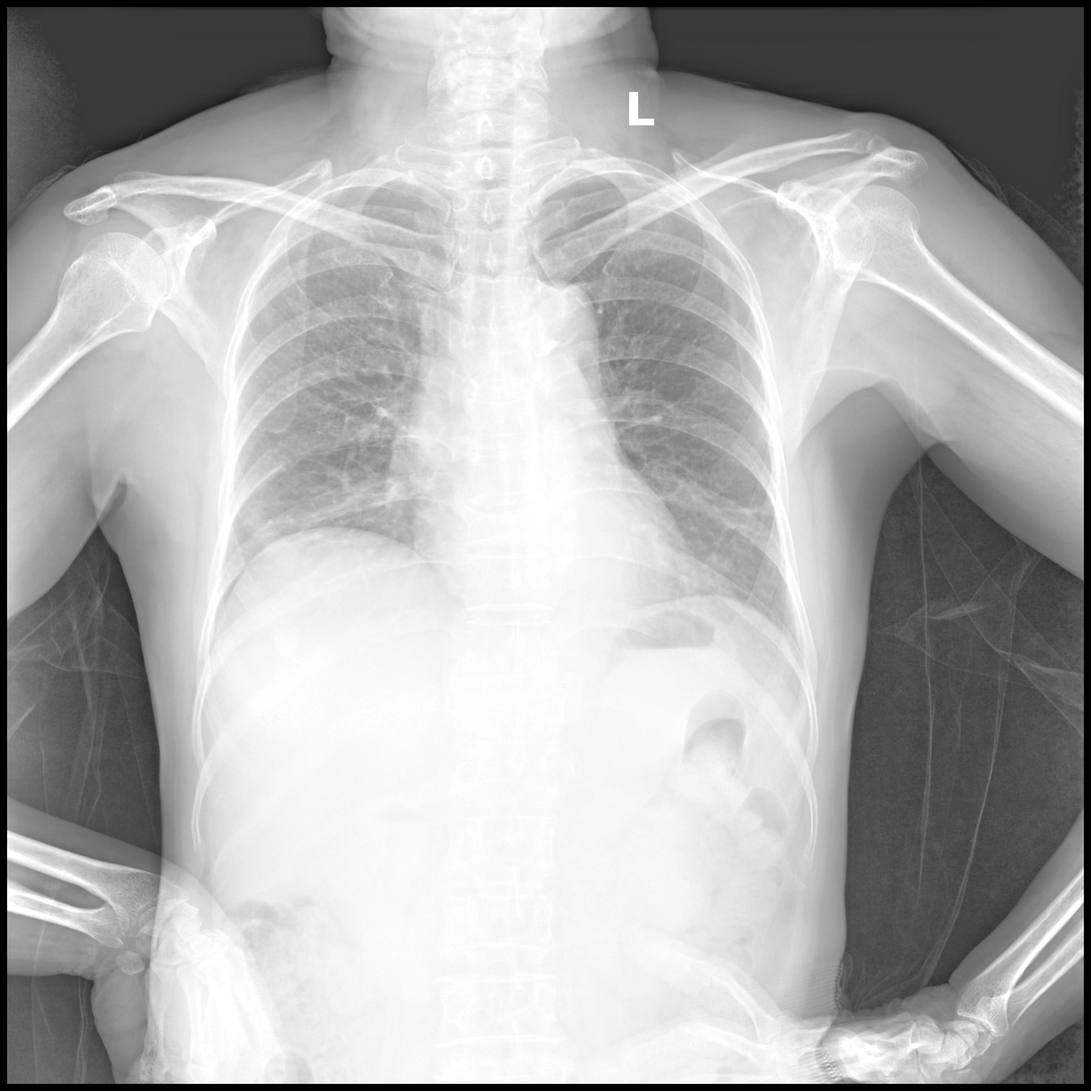Aortic enlargement: (503, 276, 602, 375)
